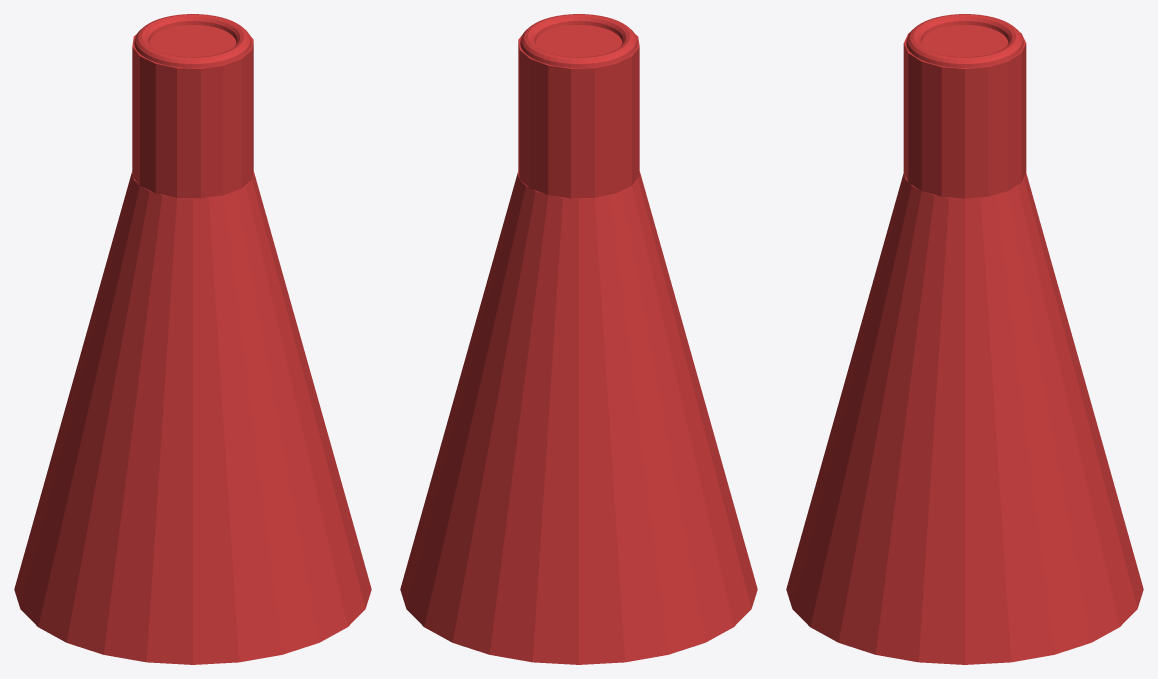
Rendered from c_dress_evening.glb.
3 renders of one model, left to right at view 1: azimuth 30°, elevation 25°; view 2: azimuth 150°, elevation 25°; view 3: azimuth 270°, elevation 25°, orthographic.
Parts seen in each view (by area): view 1: c_dress_evening; view 2: c_dress_evening; view 3: c_dress_evening.
Boxes of the visible parts, left/top/right/bottom form: c_dress_evening: left=14, top=14, right=371, bottom=664; c_dress_evening: left=400, top=14, right=757, bottom=664; c_dress_evening: left=786, top=14, right=1143, bottom=664.
Bounding box in the file's own units: 0.7 × 1.19 × 0.7.
